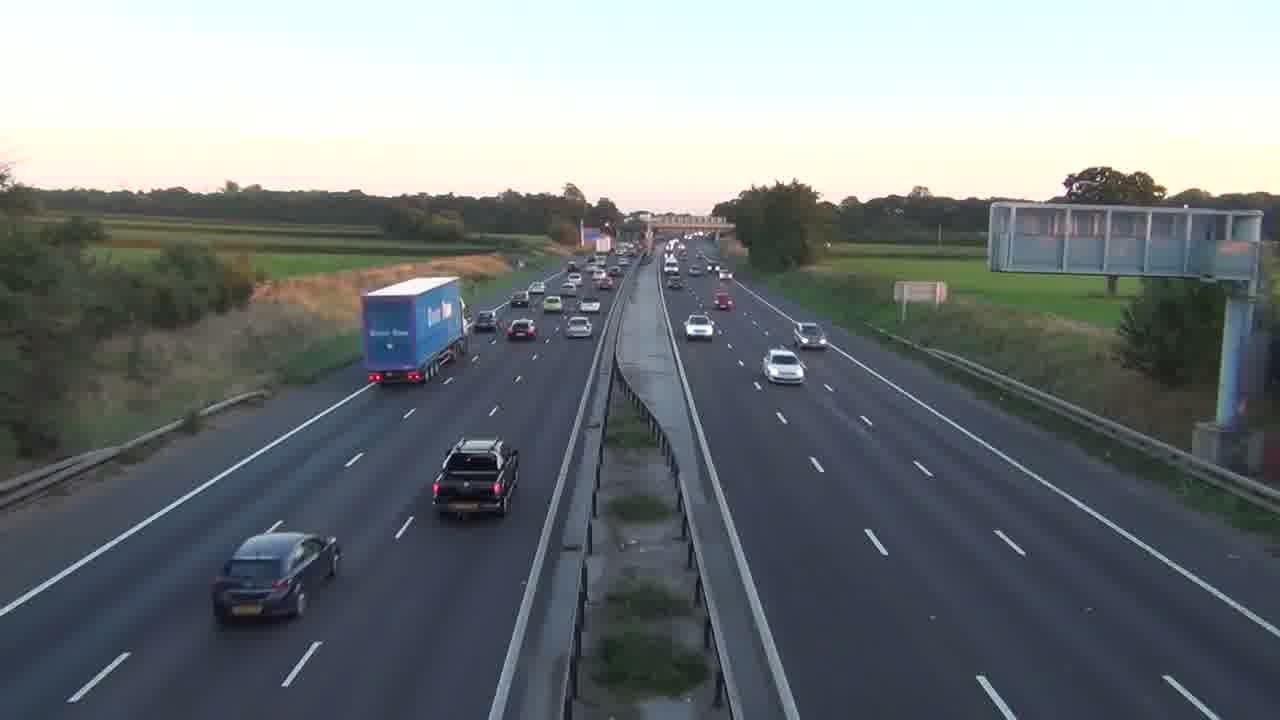car: (210, 520, 342, 626), (431, 436, 520, 520), (761, 347, 806, 387), (683, 313, 715, 342), (793, 321, 827, 348), (505, 317, 537, 340), (565, 316, 594, 339), (712, 291, 735, 311)
truck: (361, 275, 468, 385)
